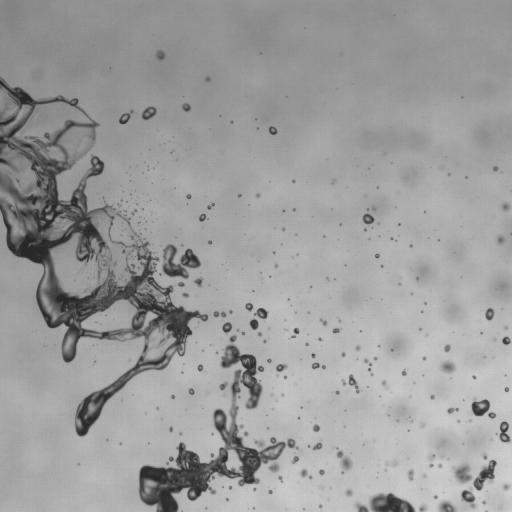droplet: (453, 460, 497, 508), (471, 398, 495, 418), (341, 374, 360, 392), (438, 499, 457, 511), (440, 360, 455, 373), (142, 106, 156, 119), (362, 212, 374, 225), (299, 468, 312, 478), (485, 308, 494, 320), (427, 454, 435, 467), (222, 322, 231, 333), (312, 441, 322, 450), (501, 202, 510, 211), (502, 336, 511, 345), (194, 277, 202, 287), (276, 364, 287, 371), (407, 469, 414, 480), (156, 50, 164, 59), (496, 235, 504, 244), (245, 302, 253, 311), (182, 103, 190, 111), (269, 126, 277, 134), (198, 213, 206, 221), (419, 503, 427, 511), (381, 380, 388, 389), (502, 483, 511, 490), (447, 407, 457, 413), (345, 489, 352, 496), (207, 202, 213, 209), (320, 319, 327, 325), (444, 344, 450, 351), (197, 364, 203, 371), (313, 424, 319, 431), (292, 456, 298, 463), (332, 328, 340, 333), (188, 388, 194, 394), (182, 292, 189, 297), (131, 209, 136, 215), (482, 453, 487, 459), (318, 469, 324, 474), (177, 282, 184, 286), (205, 76, 210, 81), (493, 166, 498, 171), (355, 345, 360, 350), (278, 476, 283, 481), (255, 193, 260, 197), (375, 253, 379, 258), (402, 370, 406, 375), (430, 394, 434, 399), (186, 194, 190, 198), (311, 353, 315, 357), (341, 352, 345, 356), (422, 356, 426, 360), (267, 358, 271, 362), (504, 387, 508, 391), (335, 390, 339, 394), (420, 423, 424, 427), (438, 463, 442, 467), (274, 263, 277, 267), (258, 332, 261, 336), (318, 338, 322, 341), (472, 375, 476, 378), (268, 490, 272, 493), (482, 500, 485, 504), (318, 504, 322, 507), (208, 241, 211, 244), (229, 310, 232, 313), (504, 326, 507, 329), (171, 395, 174, 398), (169, 427, 172, 430), (434, 495, 437, 498), (242, 331, 244, 335), (292, 180, 295, 182), (238, 194, 240, 197), (118, 203, 120, 206), (263, 340, 266, 342), (305, 343, 308, 345), (423, 474, 425, 477), (228, 486, 231, 488), (372, 207, 374, 209), (282, 228, 284, 230), (416, 277, 418, 279), (338, 319, 340, 321), (374, 357, 376, 359), (284, 376, 286, 378), (156, 407, 158, 409), (253, 488, 255, 490), (226, 498, 228, 500)
ligament: (0, 77, 207, 436), (139, 335, 298, 511), (354, 492, 415, 511), (335, 447, 352, 473), (249, 308, 268, 329), (498, 421, 511, 443), (119, 110, 133, 123), (364, 359, 372, 374), (312, 362, 325, 369), (290, 328, 299, 338), (213, 311, 226, 317), (385, 461, 397, 466), (15, 178, 20, 185)
